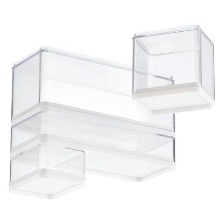plastic_box: (3, 41, 180, 189), (122, 20, 224, 121), (5, 139, 90, 204)
